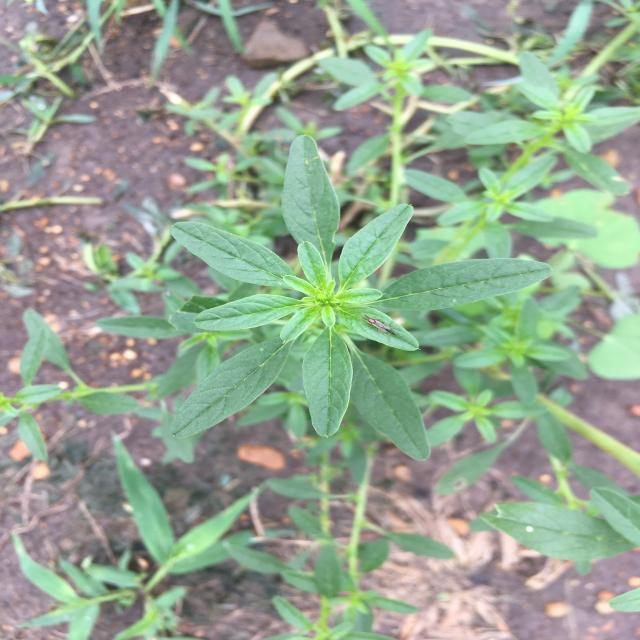Waterhemp: (1, 26, 639, 640)
